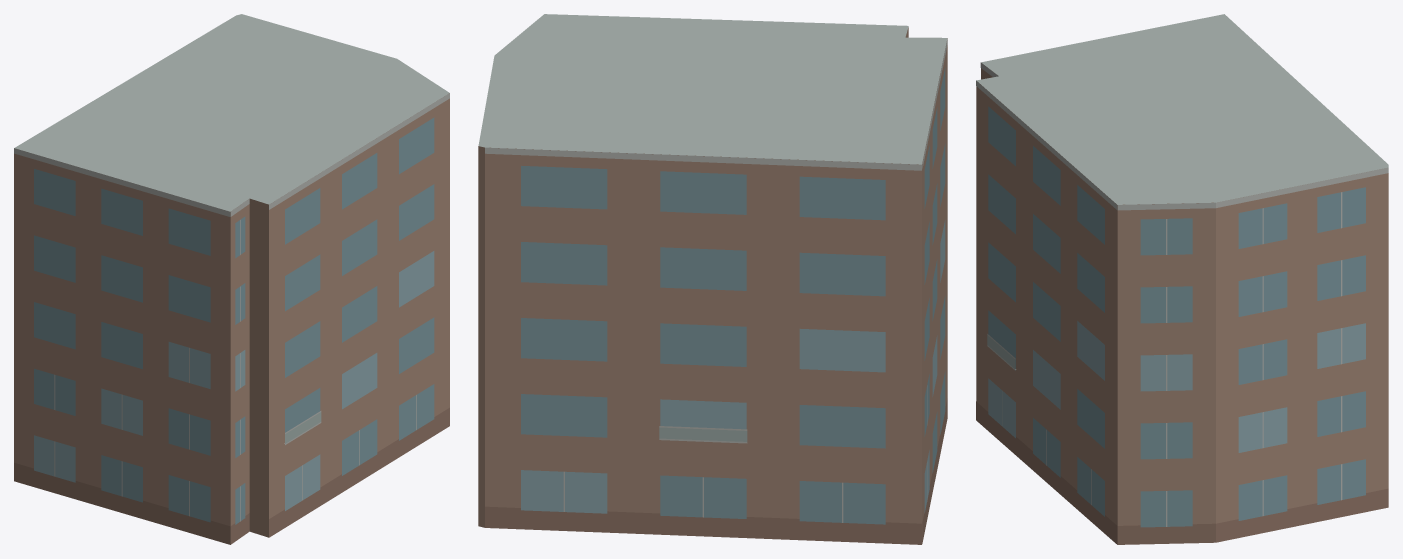
File: survey-upis-32728300.glb
3 views of the same model, side by side, from view 1: azimuth 30°, elevation 25°; view 2: azimuth 150°, elevation 25°; view 3: azimuth 270°, elevation 25° (orthographic). The views are drawn at different scales.
Visible parts, largest first — view 1: survey-upis-32728300.tmp; view 2: survey-upis-32728300.tmp; view 3: survey-upis-32728300.tmp.
Part boxes in pixels (left/top/right/bottom): survey-upis-32728300.tmp: left=14, top=14, right=449, bottom=544; survey-upis-32728300.tmp: left=478, top=14, right=947, bottom=544; survey-upis-32728300.tmp: left=976, top=14, right=1388, bottom=544.
Size of the model in its own units: 18.01 by 14.95 by 16.45.
